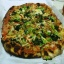pizza: (1, 3, 64, 58)
